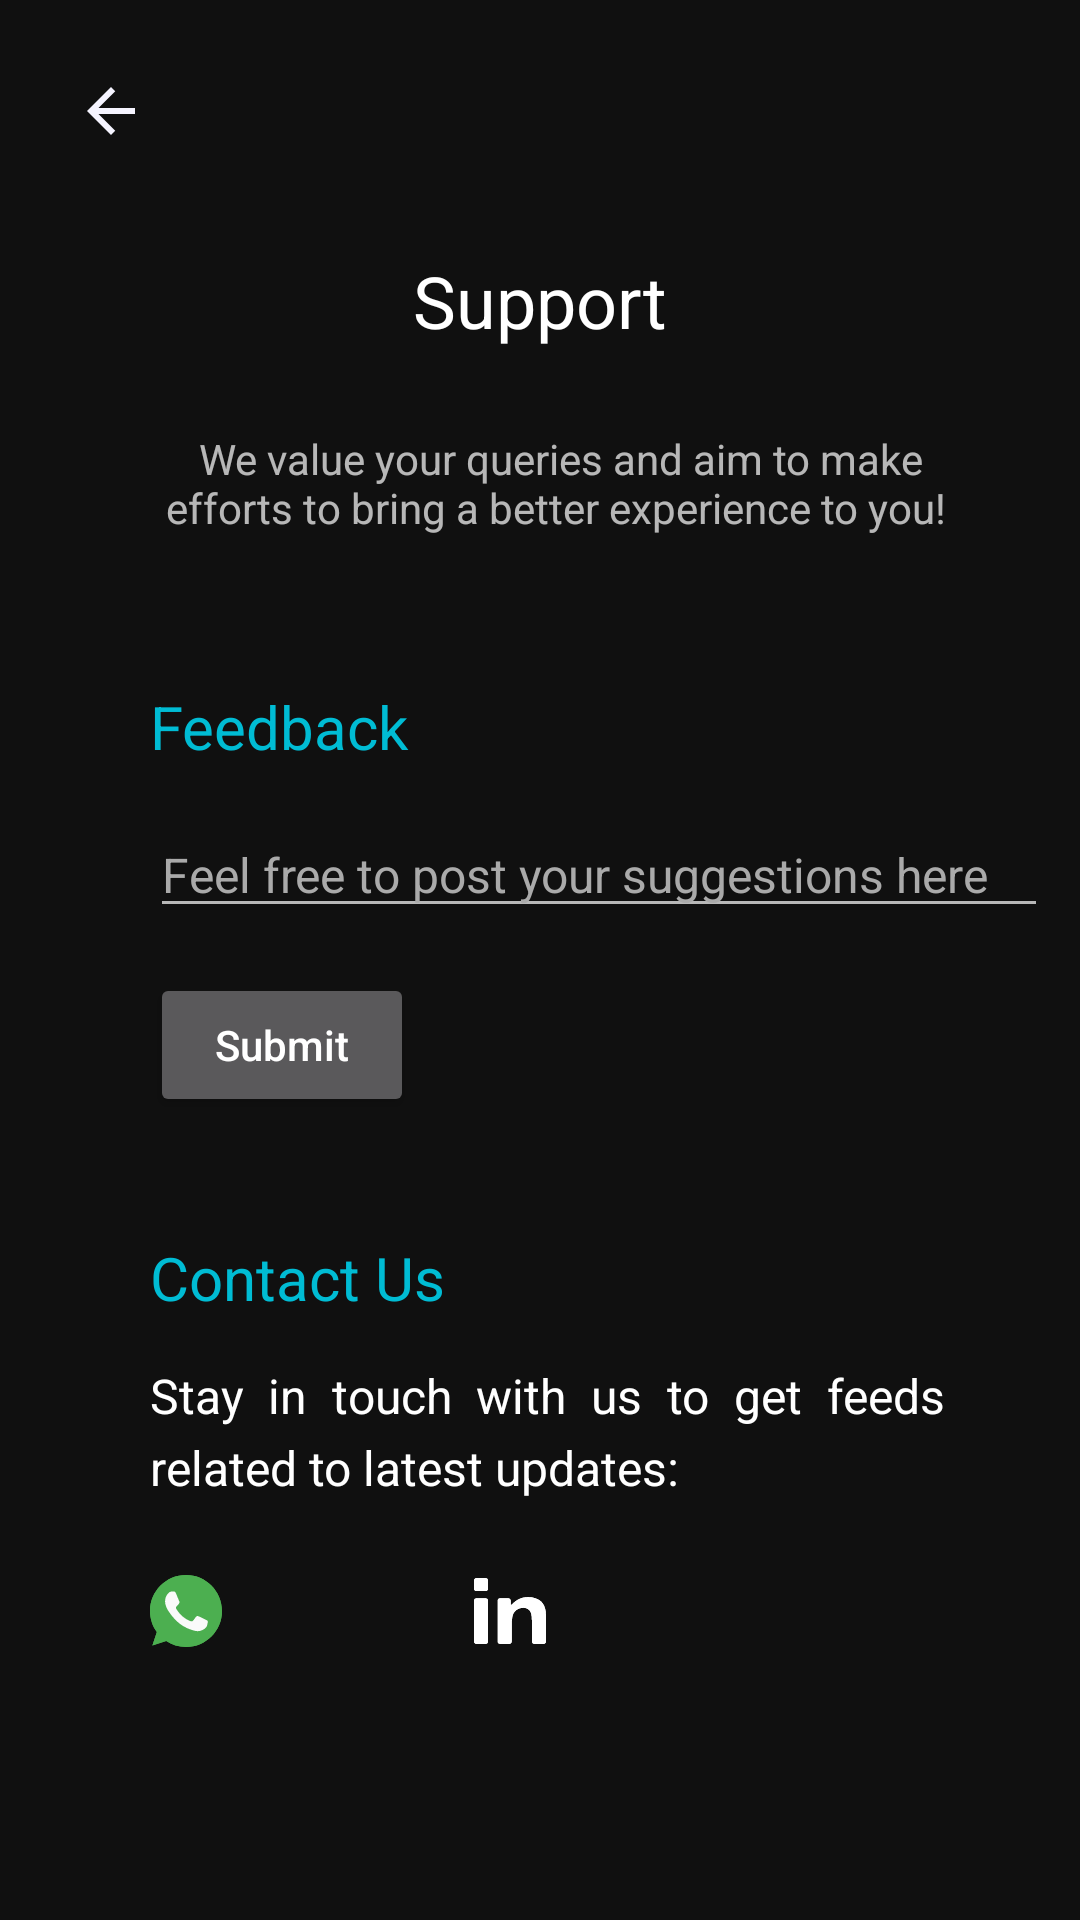

Icon click points for this 1080x1920 phone screenshot, format (x=x, y=y):
back: (x=111, y=111)
